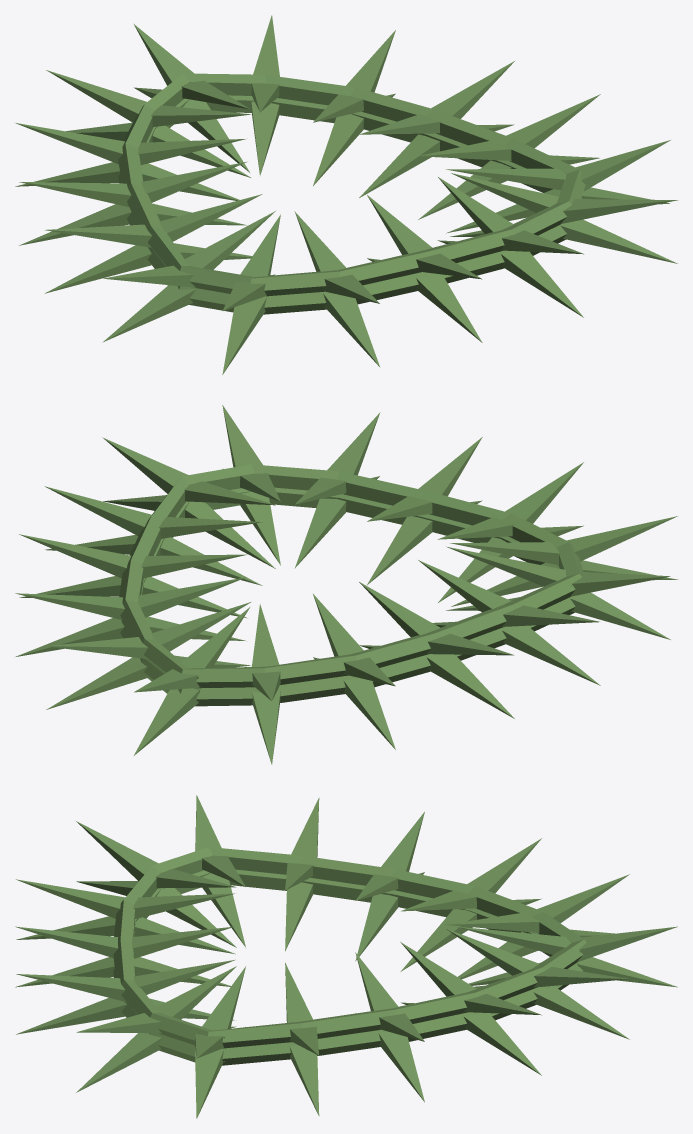
File: DeathVine.fbx
3 renders of one model, top to bottom at view 1: azimuth 30°, elevation 25°; view 2: azimuth 150°, elevation 25°; view 3: azimuth 270°, elevation 25°, orthographic. The views are drawn at different scales.
Parts seen in each view (by area): view 1: Mesh; view 2: Mesh; view 3: Mesh.
Boxes of the visible parts, x1,y1,x2,y2 form: Mesh: (14,15,678,374); Mesh: (14,405,678,764); Mesh: (15,795,677,1118).
Bounding box in the file's own units: 14.13 × 1.52 × 15.02.
